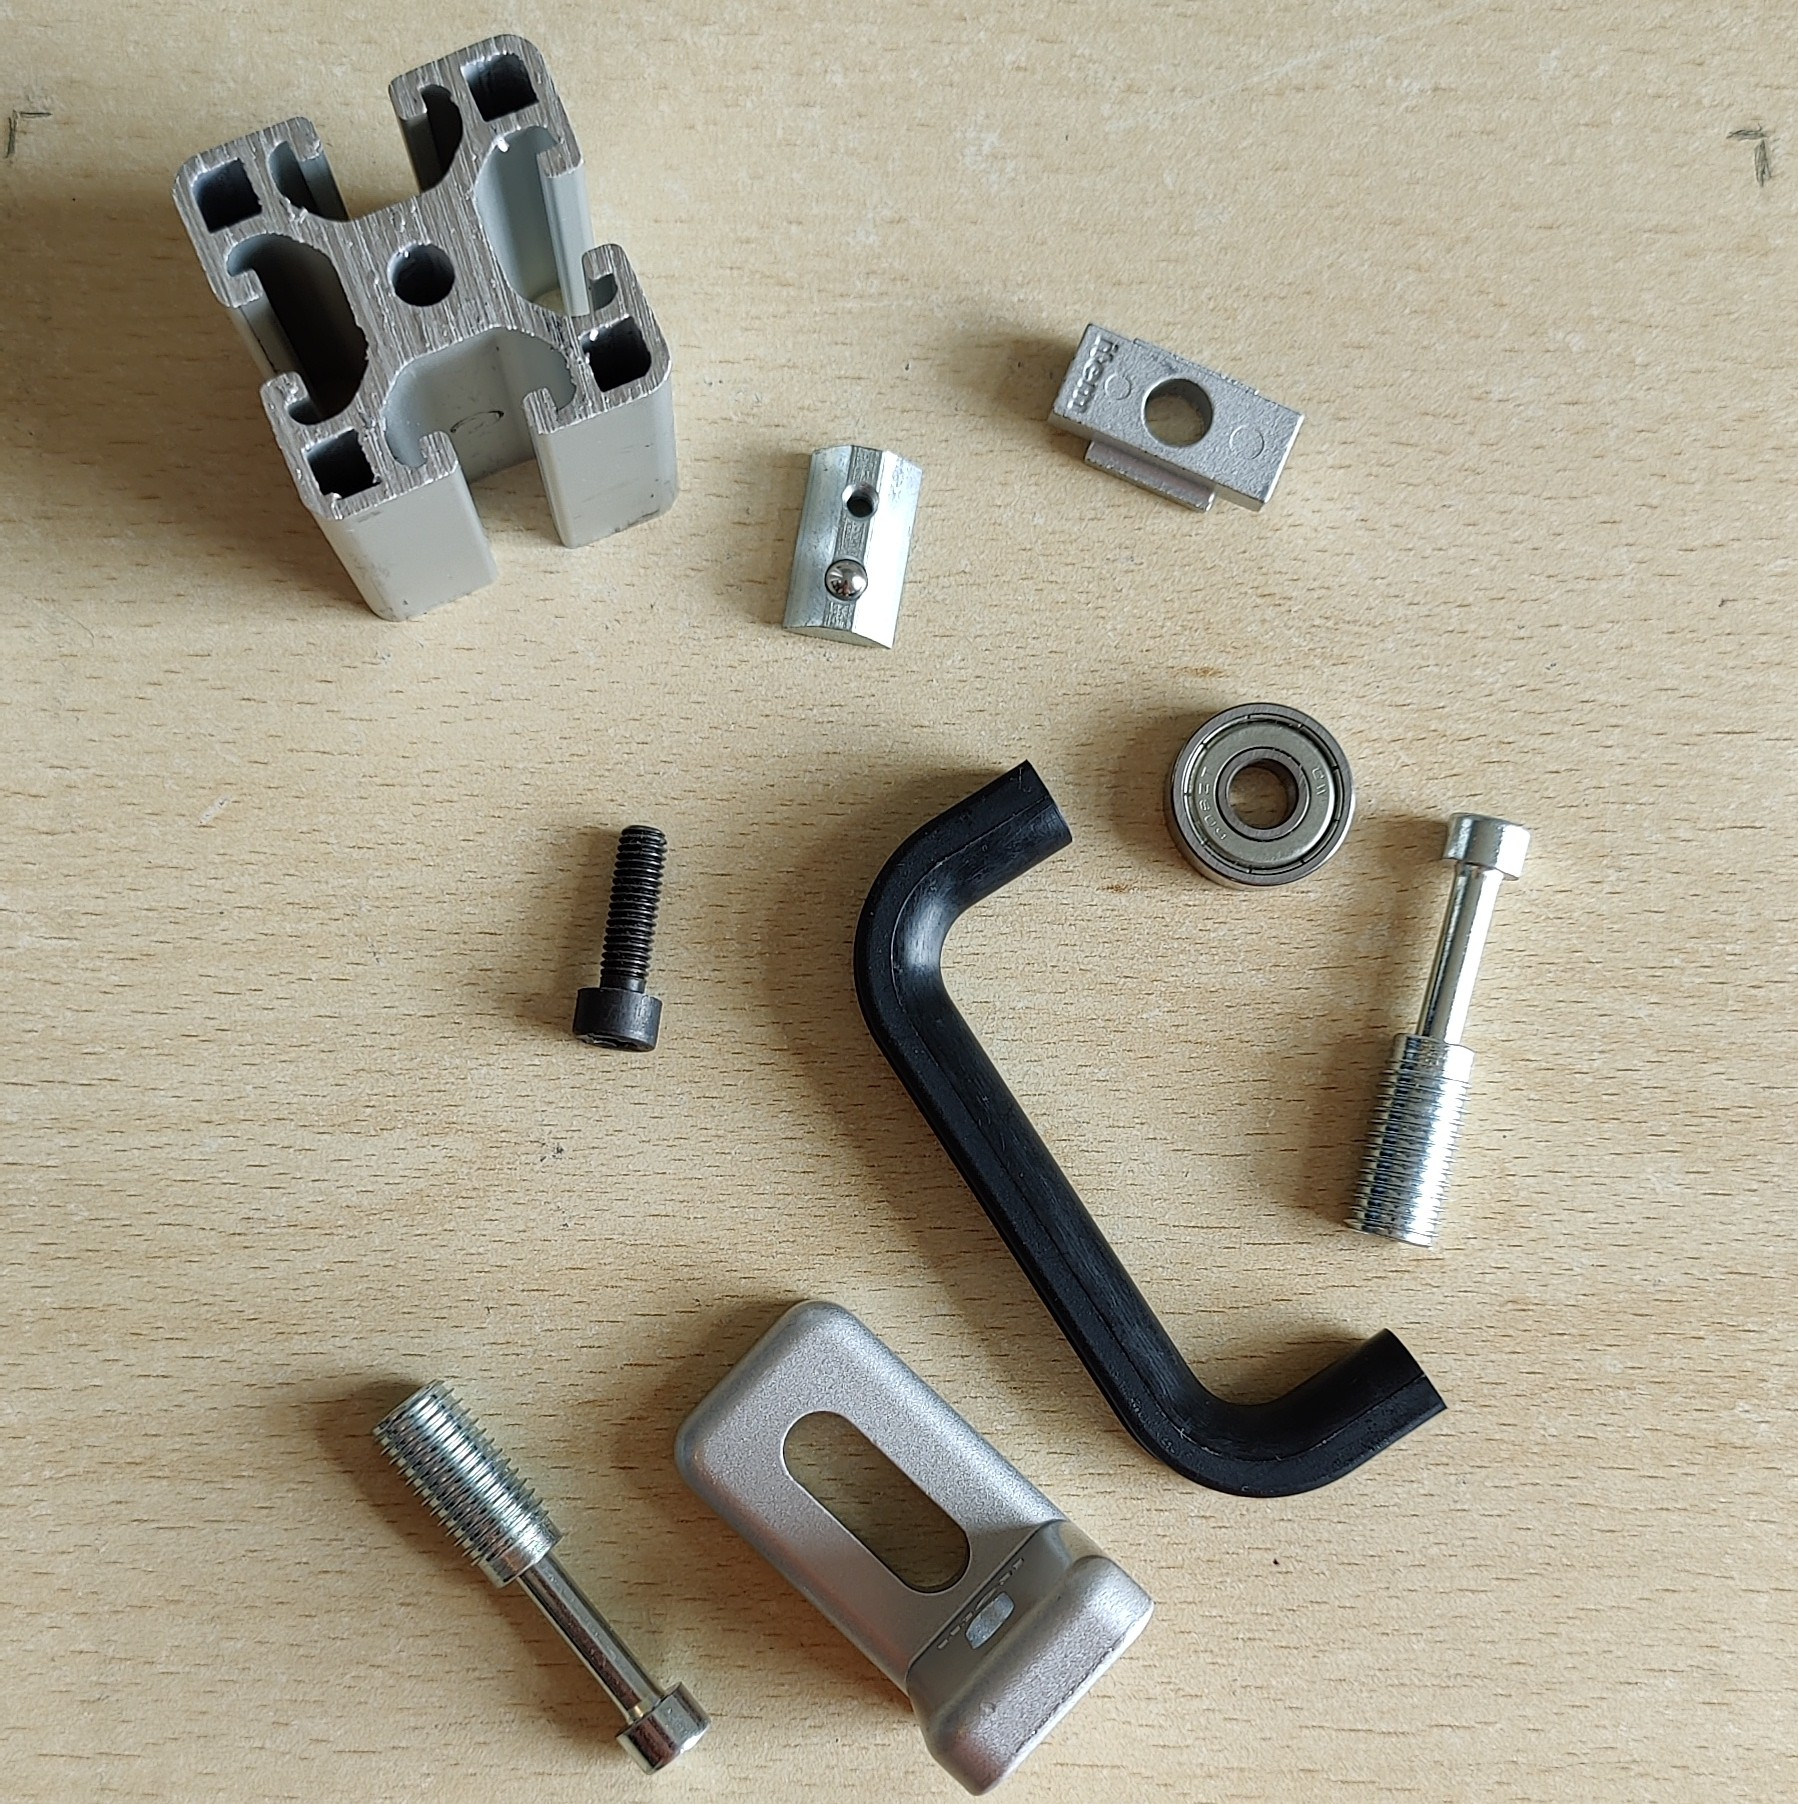Aluminium Extension: (166, 30, 682, 622)
Ball Bearing: (1159, 700, 1357, 894)
Multiwinkel: (673, 1297, 1158, 1801)
Pull Handle: (848, 756, 1452, 1501)
Shoulder Socket Head Cap Screw: (370, 1378, 716, 1778), (1335, 808, 1533, 1251)
Socket Head Cap Screw: (570, 821, 672, 1055)
T Nut Square: (1044, 319, 1311, 518)
T Spring Nut: (780, 444, 925, 652)
